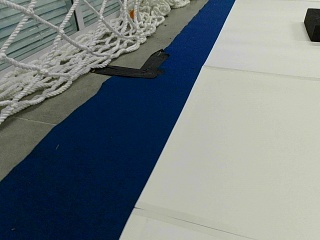block: (303, 7, 319, 41)
